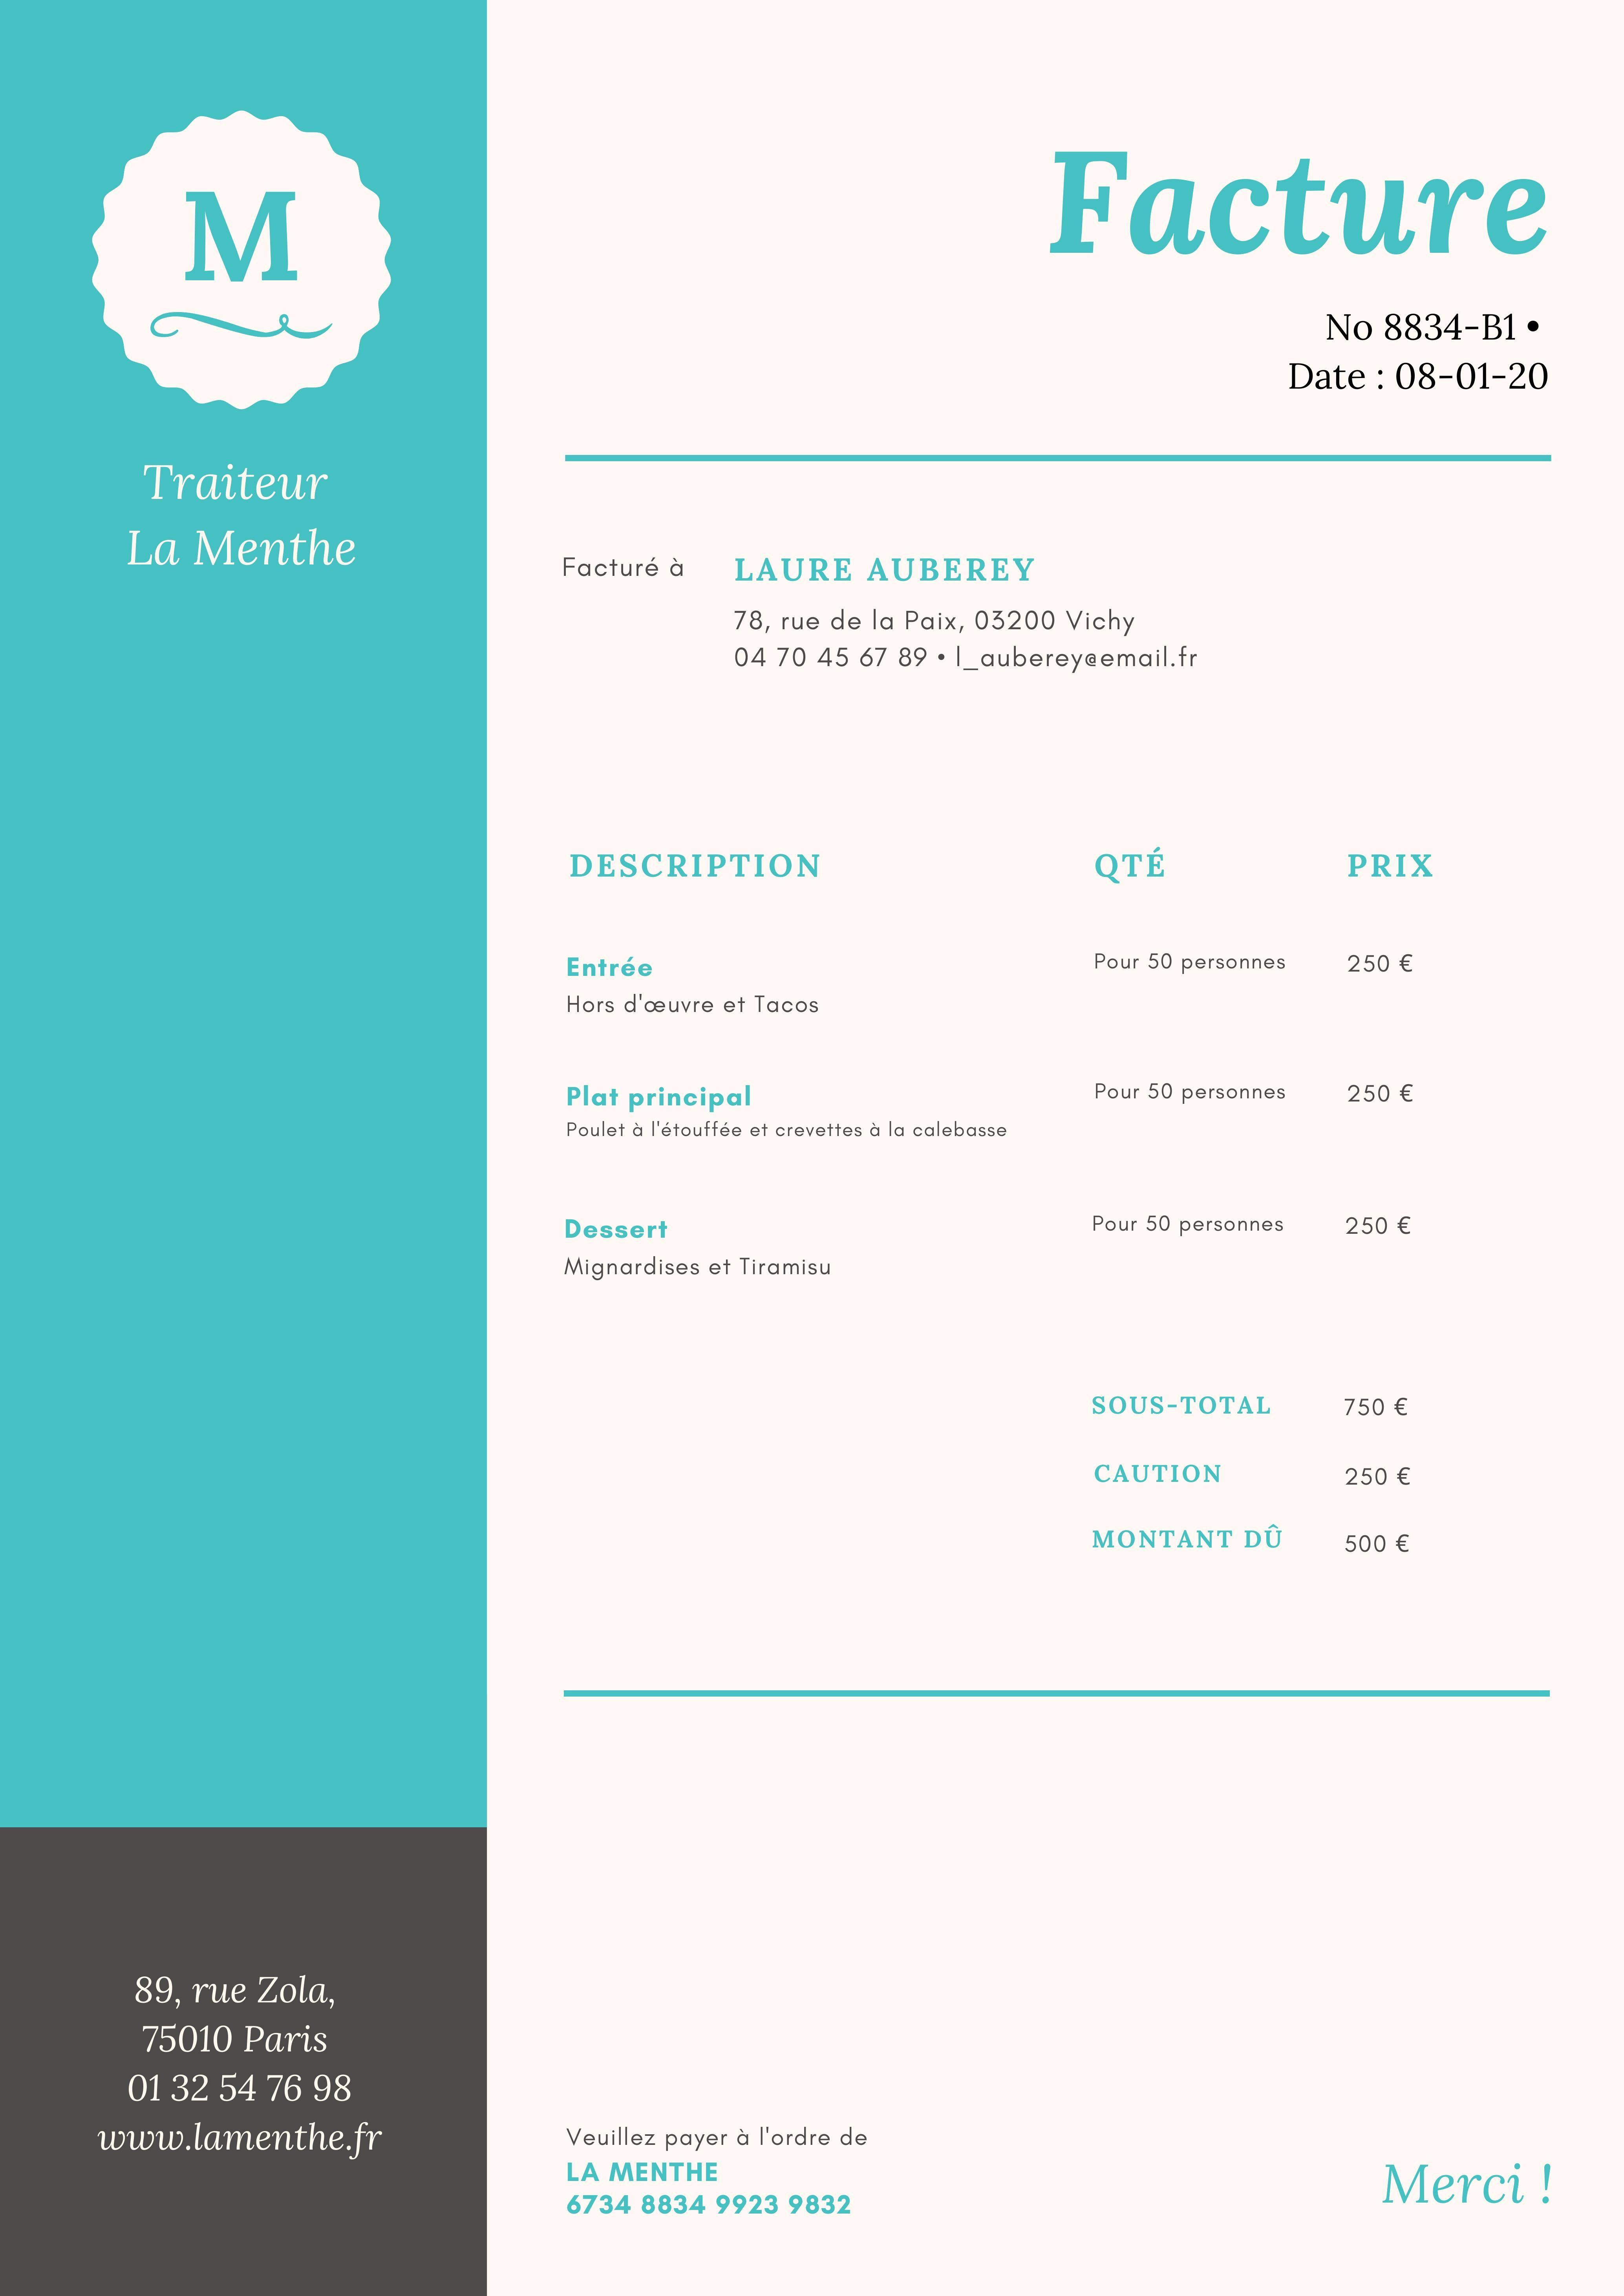ROI: (549, 824, 1562, 1289), (542, 533, 1211, 673), (1041, 1370, 1461, 1579), (547, 2093, 957, 2236), (103, 433, 391, 610), (1282, 283, 1556, 415)
